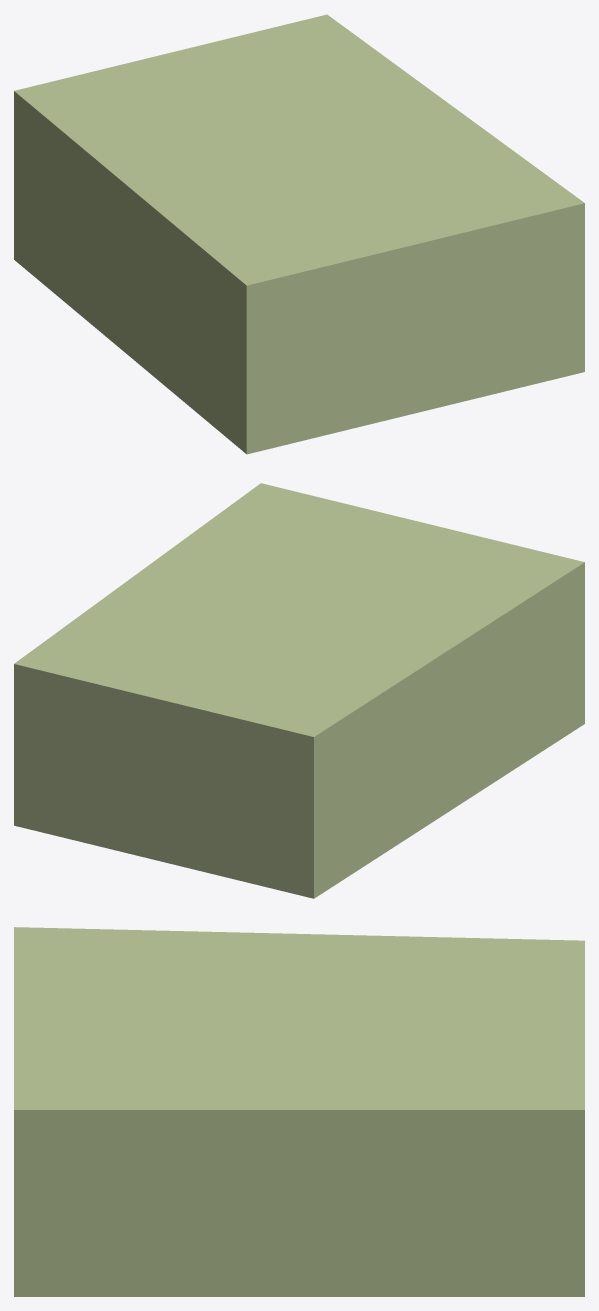
Rendered from ground_8.gltf.
3 views of the same model, one above another, from view 1: azimuth 30°, elevation 25°; view 2: azimuth 150°, elevation 25°; view 3: azimuth 270°, elevation 25° (orthographic). The views are drawn at different scales.
Parts seen in each view (by area): view 1: yulgok; view 2: yulgok; view 3: yulgok.
Part boxes in pixels (x1,y1,x2,y2): yulgok: [14, 14, 584, 454]; yulgok: [14, 483, 584, 898]; yulgok: [14, 927, 584, 1296].
Size of the model in its own units: 5.14 by 2.45 by 6.78.
